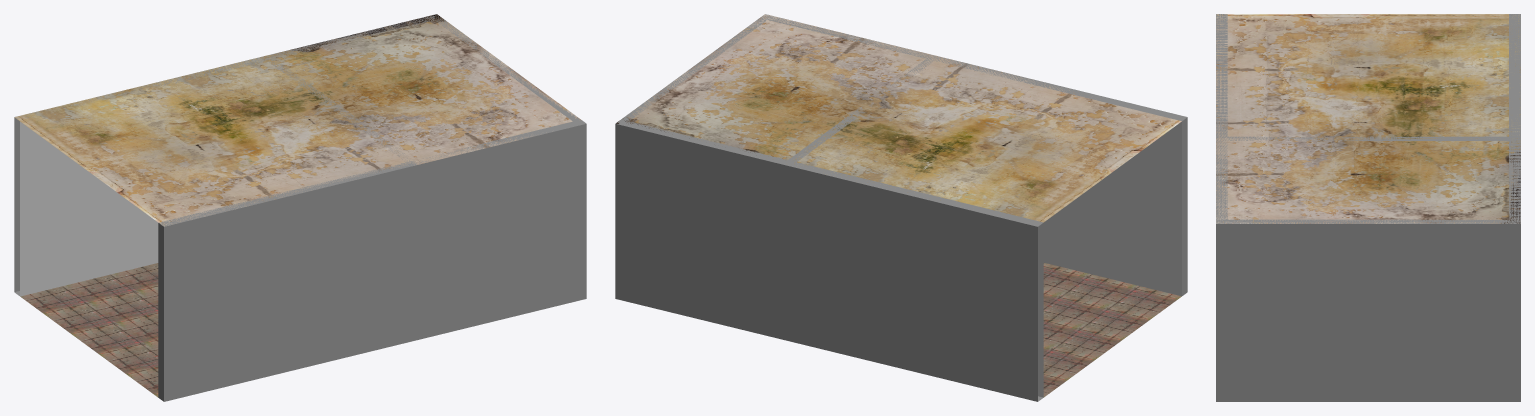
File: cartel.FBX
The picture shows the model from 3 angles, left to right: view 1: azimuth 30°, elevation 25°; view 2: azimuth 150°, elevation 25°; view 3: azimuth 270°, elevation 25°; orthographic projection.
Parts seen in each view (by area): view 1: cartel_room; view 2: cartel_room; view 3: cartel_room.
Part boxes in pixels (left/top/right/bottom): cartel_room: left=14, top=14, right=586, bottom=401; cartel_room: left=615, top=14, right=1187, bottom=401; cartel_room: left=1216, top=14, right=1520, bottom=401.
Bounding box in the file's own units: 706 × 280 × 434.
